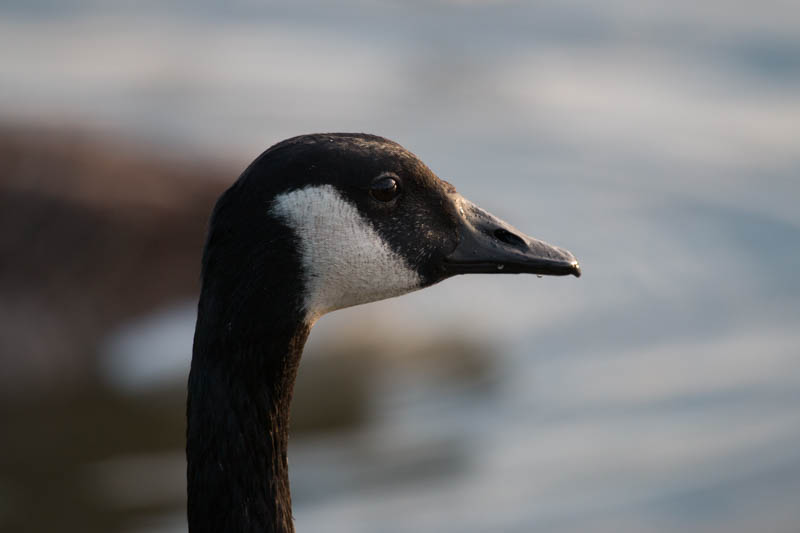goose-head: (202, 133, 582, 327)
